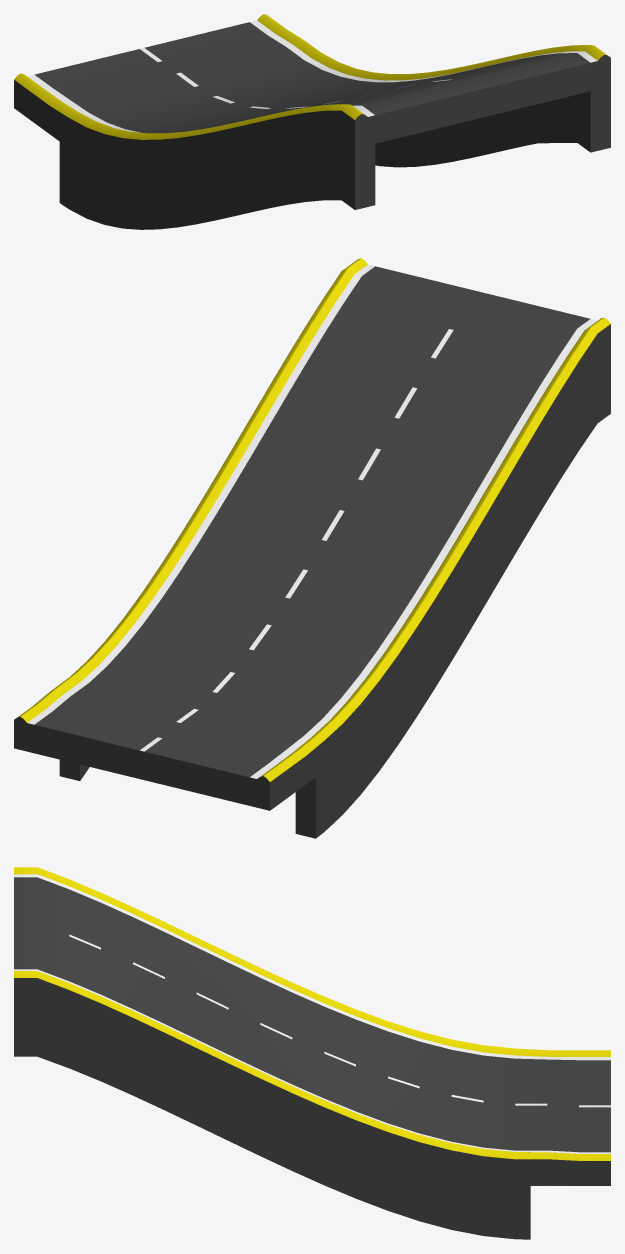
Rendered from platform4 (2).fbx.
The picture shows the model from 3 angles, top to bottom: view 1: azimuth 30°, elevation 25°; view 2: azimuth 150°, elevation 25°; view 3: azimuth 270°, elevation 25°; orthographic projection. The views are drawn at different scales.
Visible parts, largest first — view 1: Cube.004; view 2: Cube.004; view 3: Cube.004.
Boxes of the visible parts, x1,y1,x2,y2 form: Cube.004: [14, 14, 610, 229]; Cube.004: [14, 258, 610, 838]; Cube.004: [14, 867, 610, 1239].
Size of the model in its own units: 572 by 648 by 1319.
1 material, 1 textured.
